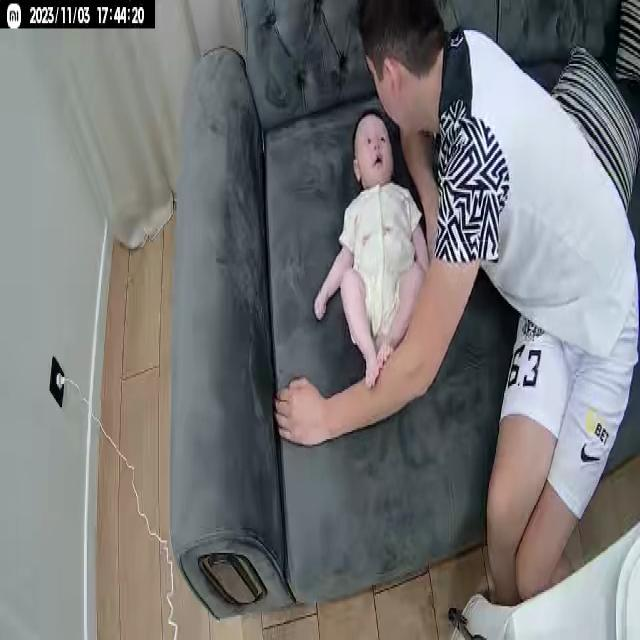baby: (312, 107, 434, 396)
